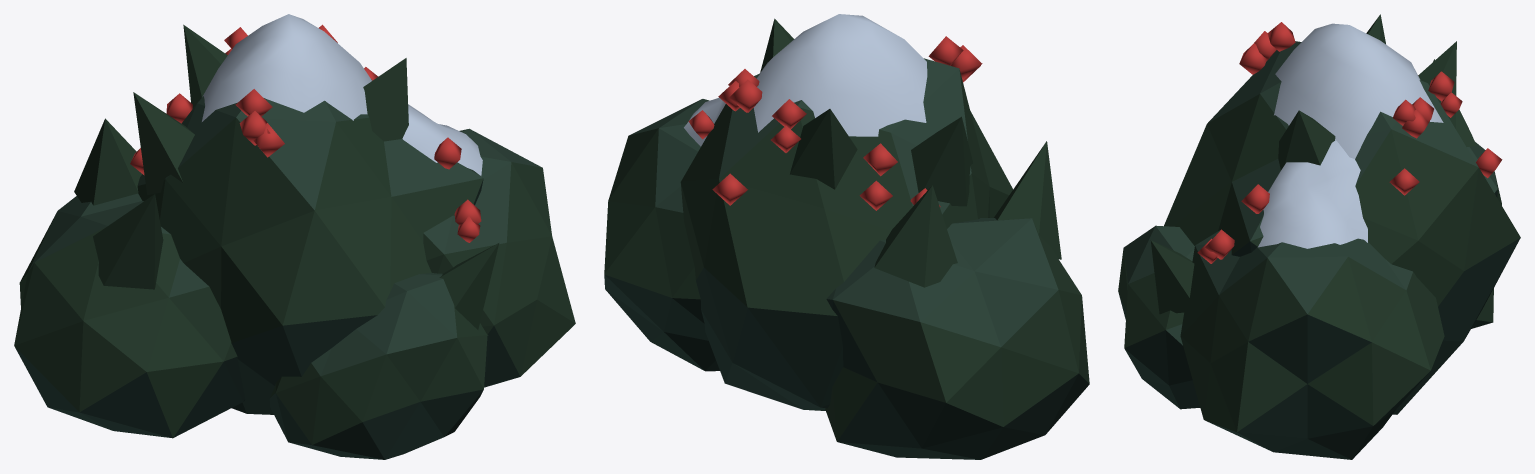
File: bush_b.glb
The picture shows the model from 3 angles, left to right: view 1: azimuth 30°, elevation 25°; view 2: azimuth 150°, elevation 25°; view 3: azimuth 270°, elevation 25°; orthographic projection. The views are drawn at different scales.
Parts seen in each view (by area): view 1: Bush; view 2: Bush; view 3: Bush.
Boxes of the visible parts, left/top/right/bottom form: Bush: left=14, top=14, right=575, bottom=459; Bush: left=604, top=14, right=1089, bottom=459; Bush: left=1118, top=14, right=1520, bottom=459.
Size of the model in its own units: 1.27 by 0.9195 by 0.9608.
